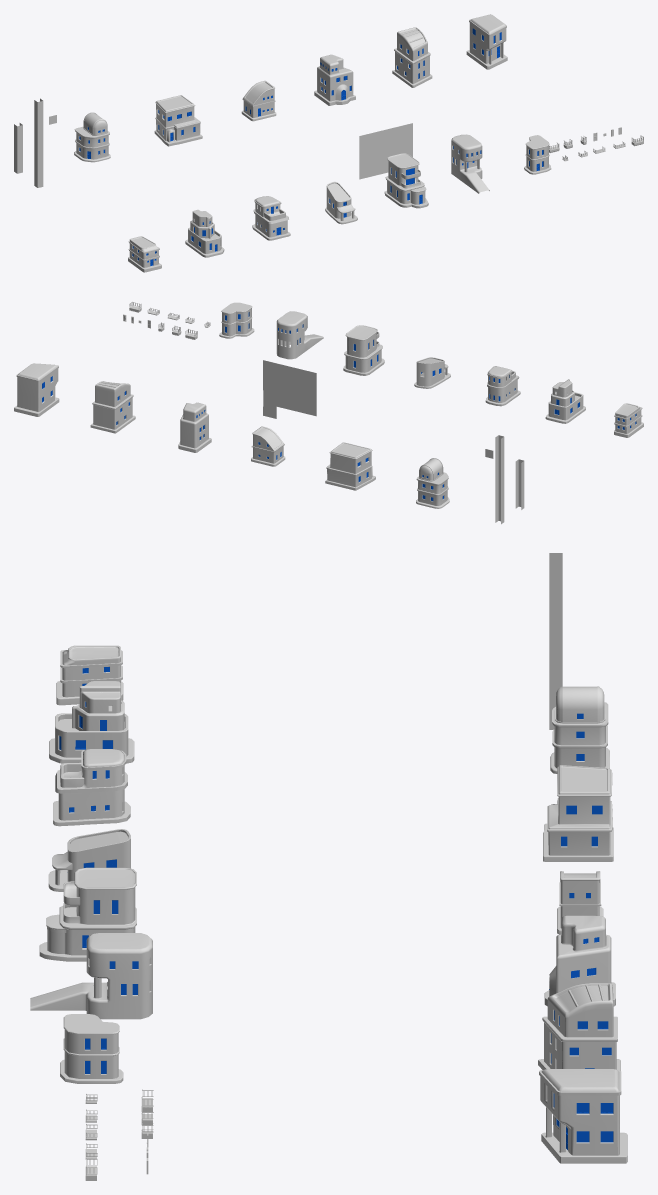
File: house_test4.fbx
3 views of the same model, one above another, from view 1: azimuth 30°, elevation 25°; view 2: azimuth 150°, elevation 25°; view 3: azimuth 270°, elevation 25° (orthographic). The views are drawn at different scales.
Parts seen in each view (by area): view 1: pCube282, a05_geo_01building02, a05_geo_01building04, polySurface99, a05_geo_03building03, polySurface57, polySurface83, polySurface48, a05_geo_02building01, polySurface67, a05_geo_01building01, pCube280 (+7 smaller); view 2: pCube282, a05_geo_01building04, a05_geo_01building02, polySurface57, polySurface99, a05_geo_03building03, polySurface83, polySurface48, a05_geo_02building01, a05_geo_01building01, a05_geo_03building01, pCube280 (+7 smaller); view 3: polySurface99, a05_geo_03building03, a05_geo_01building04, polySurface57, a05_geo_01building02, a05_geo_02building01, polySurface67, polySurface83, polySurface48, a05_geo_03building01, polySurface93, polySurface60 (+6 smaller).
Part boxes in pixels (<box>): pCube282: <box>359,123,412,179</box>; a05_geo_01building02: <box>155,95,200,142</box>; a05_geo_01building04: <box>394,27,430,83</box>; polySurface99: <box>451,134,489,193</box>; a05_geo_03building03: <box>385,153,426,204</box>; polySurface57: <box>469,14,506,64</box>; polySurface83: <box>317,54,353,101</box>; polySurface48: <box>76,113,108,159</box>; a05_geo_02building01: <box>188,209,221,253</box>; polySurface67: <box>255,196,287,237</box>; a05_geo_01building01: <box>243,80,274,117</box>; pCube280: <box>34,98,43,187</box>; pCube282: <box>263,360,316,418</box>; a05_geo_01building04: <box>92,381,133,429</box>; a05_geo_01building02: <box>326,442,372,487</box>; polySurface57: <box>17,363,58,411</box>; polySurface99: <box>276,311,323,359</box>; a05_geo_03building03: <box>344,325,382,372</box>; polySurface83: <box>180,402,208,448</box>; polySurface48: <box>418,458,447,505</box>; a05_geo_02building01: <box>548,379,583,420</box>; a05_geo_01building01: <box>252,426,284,463</box>; a05_geo_03building01: <box>221,302,252,336</box>; pCube280: <box>495,435,504,524</box>; polySurface99: <box>30,933,152,1019</box>; a05_geo_03building03: <box>46,867,136,955</box>; a05_geo_01building04: <box>542,983,617,1069</box>; polySurface57: <box>540,1069,619,1155</box>; a05_geo_01building02: <box>547,765,612,855</box>; a05_geo_02building01: <box>55,681,128,757</box>; polySurface67: <box>58,749,124,820</box>; polySurface83: <box>549,915,611,996</box>; polySurface48: <box>554,686,606,768</box>; a05_geo_03building01: <box>63,1014,119,1078</box>; polySurface93: <box>52,829,130,885</box>; polySurface60: <box>62,645,120,697</box>.
Bounding box in the file's own units: 15976 × 3088 × 8124.
